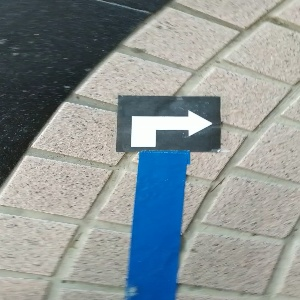right: (118, 97, 220, 151)
